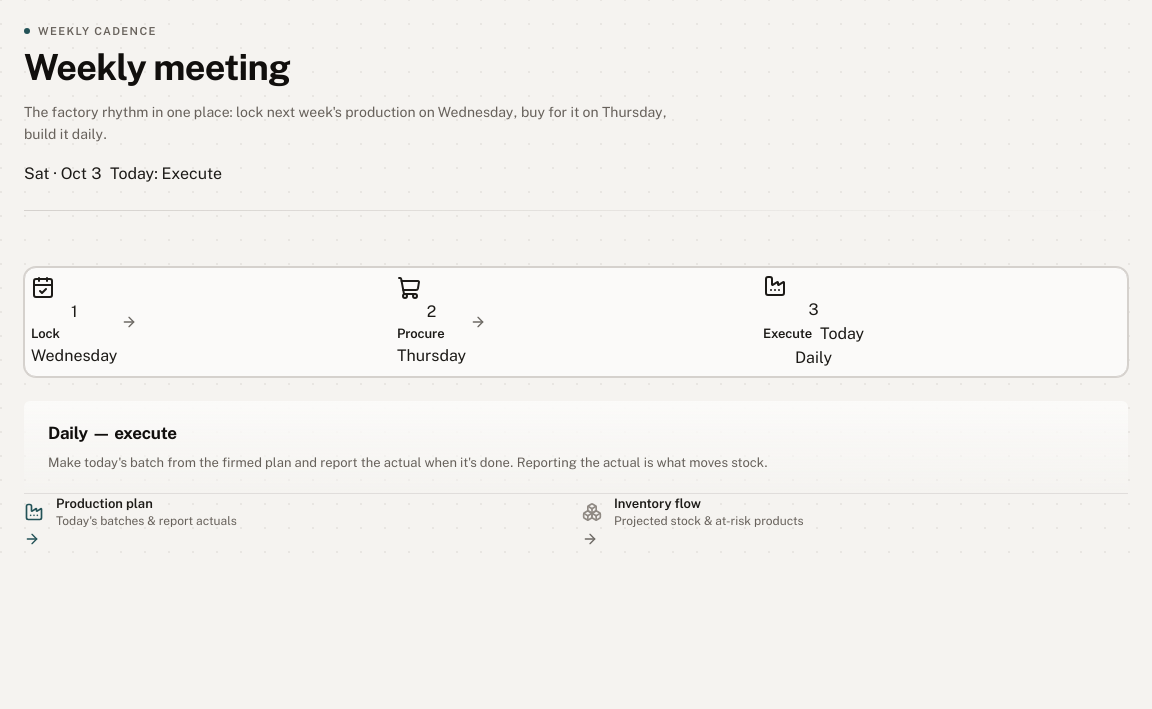
it: weekly-meeting cockpit — batch chip tap-to-expand › renders a pack-bearing chip as a disclosure button and reveals the breakdown on tap
Click the button with aria-label "Lock — Wednesday" at (74,322), box [31,276,117,368]
(page scrolled)
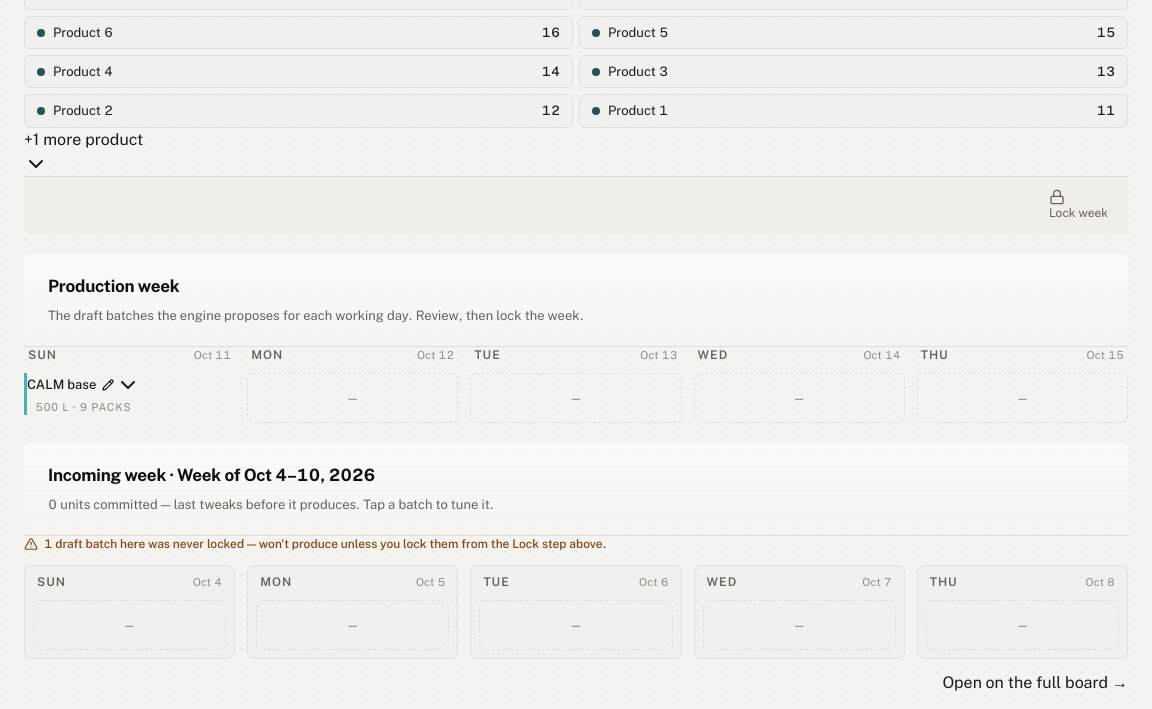
Click the button "CALM base 500 L · 9 packs" at (82,394), box [24,373,140,415]
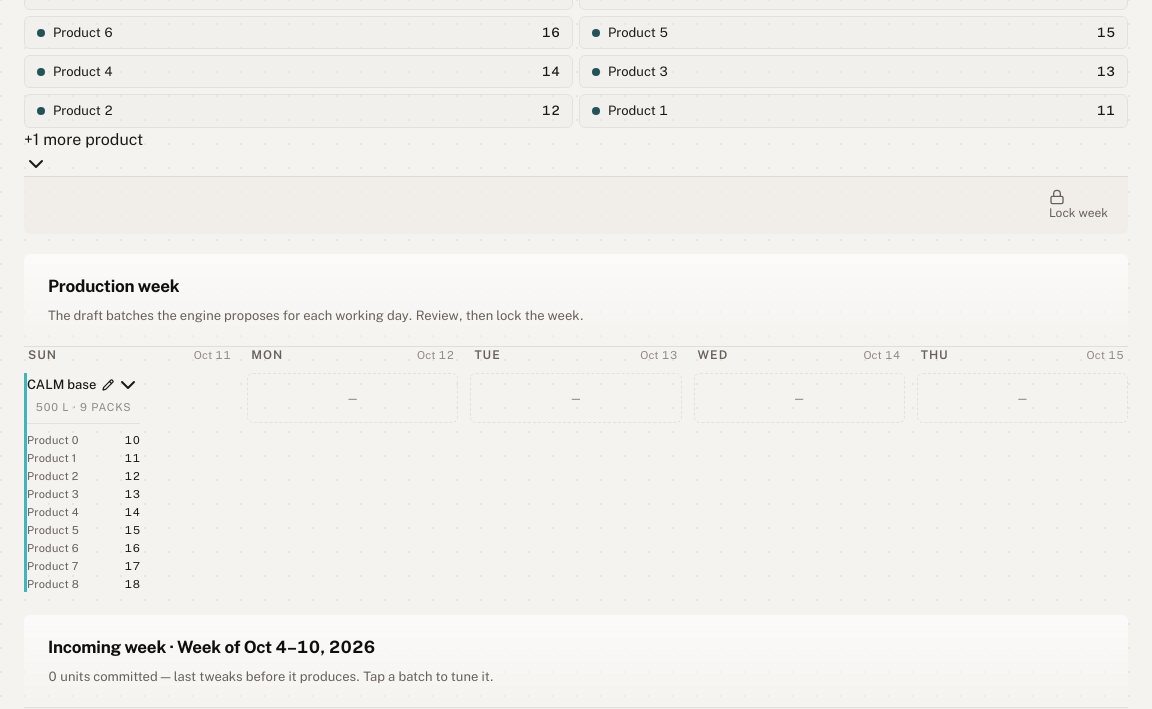
Now the button "CALM base" is expanded, box [24,373,140,592]
Now the number of list items is 9
